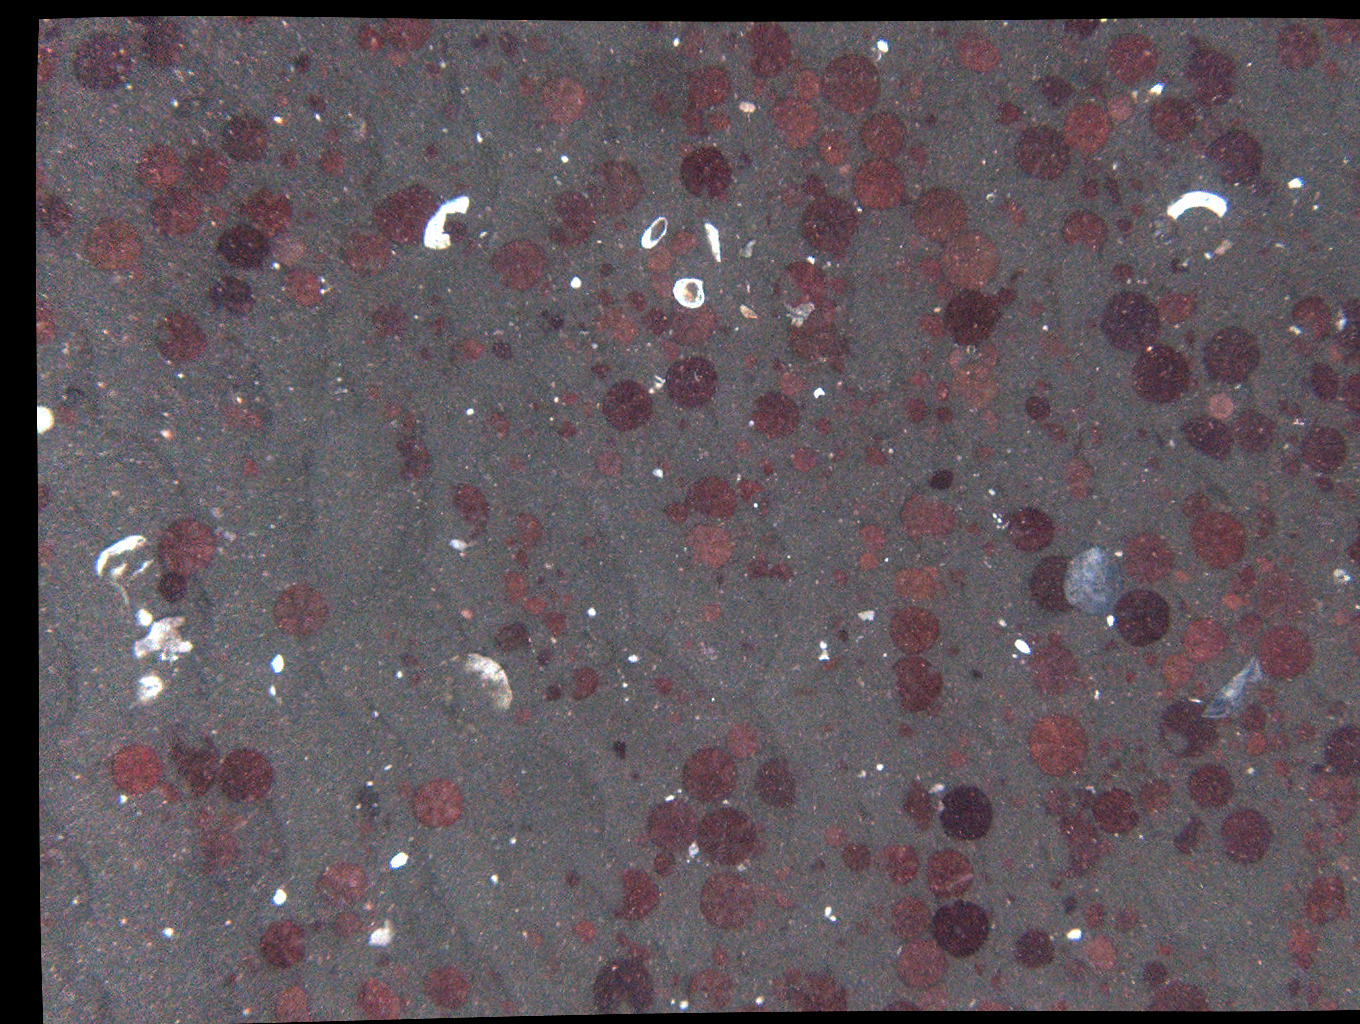Hermit crab: (1149, 210, 1184, 248)
Small shell hash: (77, 141, 95, 152)
Substrate A: (89, 114, 102, 120)
sand dollar: (378, 179, 454, 248), (1127, 343, 1189, 407), (1031, 715, 1090, 780), (1099, 290, 1161, 351), (1202, 322, 1261, 385), (696, 873, 756, 933), (947, 288, 1003, 352), (157, 520, 218, 577), (772, 96, 830, 154), (824, 55, 882, 113), (846, 159, 904, 217), (773, 257, 831, 315), (798, 198, 856, 256), (1266, 30, 1325, 88), (1208, 129, 1266, 187), (1187, 47, 1245, 105), (1144, 89, 1202, 147), (1102, 29, 1160, 87), (1060, 104, 1118, 162), (1013, 128, 1071, 186), (956, 23, 1014, 81), (339, 222, 397, 280), (586, 161, 644, 219), (742, 23, 800, 81), (681, 145, 739, 203), (491, 232, 549, 290), (665, 291, 724, 350), (521, 72, 579, 130), (148, 189, 206, 247), (82, 218, 140, 276), (78, 37, 137, 95), (1159, 697, 1216, 756), (939, 233, 1000, 288), (910, 188, 967, 246), (539, 191, 597, 248), (221, 113, 280, 170), (1029, 557, 1084, 616), (410, 777, 466, 833), (597, 961, 652, 1016), (679, 752, 735, 807), (419, 959, 474, 1015), (223, 745, 278, 800), (436, 483, 492, 538), (154, 321, 209, 376), (388, 433, 443, 489), (1114, 592, 1169, 648), (1125, 526, 1180, 581), (894, 942, 950, 997), (791, 961, 846, 1016), (896, 554, 951, 609), (686, 520, 741, 575), (273, 582, 328, 637), (615, 865, 670, 920), (701, 810, 756, 865), (643, 797, 698, 852), (754, 755, 808, 810), (342, 966, 397, 1021), (317, 855, 372, 910), (194, 822, 248, 877), (169, 738, 224, 793), (112, 741, 167, 796), (944, 360, 999, 415), (663, 357, 718, 412), (602, 380, 657, 435), (754, 388, 808, 443), (1030, 645, 1085, 700), (888, 658, 943, 713), (889, 603, 944, 658), (934, 902, 989, 957), (928, 845, 983, 900), (940, 786, 994, 841), (687, 967, 742, 1022), (1006, 501, 1061, 556), (683, 477, 738, 531), (893, 494, 948, 549), (1051, 817, 1101, 877), (1191, 516, 1246, 569), (182, 147, 237, 200), (1220, 812, 1273, 865), (134, 25, 184, 81), (1315, 715, 1360, 774), (784, 312, 838, 361), (1251, 568, 1304, 617), (1058, 208, 1111, 257), (1223, 409, 1276, 458), (1307, 776, 1360, 825), (1191, 768, 1244, 817), (1087, 792, 1140, 841), (1297, 429, 1350, 478), (1298, 873, 1351, 922), (1261, 629, 1314, 678), (1289, 360, 1342, 409), (1178, 419, 1231, 468), (1180, 617, 1233, 666), (682, 61, 733, 110), (380, 16, 439, 58), (261, 924, 310, 975), (133, 141, 182, 191), (858, 112, 910, 159), (1282, 294, 1335, 338), (244, 186, 291, 236), (267, 984, 324, 1024), (1010, 926, 1056, 975), (204, 271, 250, 319), (1150, 981, 1214, 1015), (1057, 452, 1098, 504), (881, 838, 927, 884), (221, 222, 267, 268), (285, 265, 330, 311), (808, 120, 854, 165), (898, 781, 943, 824), (890, 893, 931, 939), (220, 403, 269, 442), (1166, 815, 1206, 861), (717, 719, 759, 759), (1161, 650, 1201, 692), (266, 228, 307, 267), (1309, 12, 1358, 44), (42, 195, 76, 239), (489, 623, 530, 659), (1084, 935, 1121, 973), (596, 310, 635, 346), (35, 300, 65, 344), (1329, 299, 1360, 340), (373, 305, 409, 340), (1136, 781, 1171, 816), (1160, 289, 1193, 324), (969, 993, 1016, 1016), (570, 665, 601, 699), (888, 720, 919, 751), (600, 737, 631, 768), (35, 46, 61, 84), (1040, 75, 1066, 111), (865, 996, 914, 1015), (492, 335, 521, 365), (679, 33, 708, 63), (650, 87, 679, 117), (668, 136, 697, 166), (658, 342, 687, 372), (674, 230, 703, 260), (639, 311, 668, 341), (650, 272, 679, 302), (644, 245, 673, 275), (587, 361, 616, 392), (562, 389, 591, 419), (431, 315, 460, 345), (622, 285, 652, 315), (542, 311, 571, 341), (583, 288, 612, 318), (497, 450, 526, 480), (547, 413, 576, 443), (38, 546, 67, 577), (487, 407, 516, 437), (49, 399, 78, 429), (375, 394, 404, 424), (201, 204, 230, 234), (514, 26, 543, 56), (501, 74, 530, 104), (469, 26, 498, 56), (439, 213, 468, 243), (354, 27, 383, 57), (307, 98, 337, 128), (270, 88, 299, 118), (290, 51, 319, 81), (225, 456, 254, 486), (270, 143, 299, 173), (1040, 329, 1069, 359), (849, 522, 878, 552), (793, 68, 822, 98), (911, 145, 940, 175), (929, 467, 958, 497), (926, 376, 955, 407), (914, 259, 943, 289), (929, 284, 958, 314), (996, 287, 1025, 317), (1032, 394, 1061, 424), (775, 184, 804, 214), (798, 167, 827, 197), (905, 394, 934, 424), (708, 109, 738, 139), (861, 447, 890, 478), (905, 352, 934, 382), (936, 337, 965, 367), (918, 310, 947, 340), (805, 412, 834, 442), (839, 385, 868, 415), (828, 344, 857, 374), (826, 268, 855, 298), (771, 370, 800, 400), (734, 350, 763, 380), (1044, 415, 1073, 445), (1309, 471, 1338, 501), (1271, 446, 1300, 477), (1280, 395, 1309, 425), (1317, 332, 1346, 362), (1208, 394, 1237, 424), (1309, 52, 1338, 82), (1068, 16, 1097, 46), (1104, 90, 1133, 120), (990, 104, 1019, 134), (1113, 216, 1142, 246), (1101, 175, 1130, 205), (1074, 166, 1103, 196), (998, 198, 1027, 228), (1110, 256, 1139, 286), (1176, 492, 1205, 522), (1119, 663, 1148, 693), (1034, 618, 1063, 649), (948, 563, 977, 593), (395, 651, 424, 681), (822, 641, 851, 671), (645, 672, 674, 702), (534, 677, 563, 707), (526, 641, 555, 671), (539, 606, 568, 636), (492, 568, 521, 598), (505, 539, 534, 569), (513, 514, 542, 544), (724, 436, 753, 466), (750, 447, 779, 478), (736, 473, 765, 503), (770, 557, 799, 587), (743, 553, 772, 583), (692, 593, 721, 623), (659, 497, 688, 527), (589, 452, 618, 482), (1252, 509, 1282, 539), (1250, 544, 1279, 574), (1229, 560, 1258, 591), (1222, 584, 1251, 614), (1169, 570, 1198, 600), (1241, 609, 1270, 639), (1331, 539, 1360, 569), (842, 841, 871, 871), (814, 820, 843, 850), (1054, 891, 1083, 921), (937, 744, 967, 774), (920, 986, 949, 1016), (1305, 975, 1334, 1005), (1289, 955, 1318, 985), (1282, 927, 1311, 957), (1139, 959, 1168, 990), (1329, 826, 1358, 856), (1295, 822, 1325, 852), (1270, 745, 1299, 776), (1295, 719, 1325, 749), (1266, 697, 1295, 727), (1243, 672, 1272, 702), (1240, 701, 1269, 731), (1209, 734, 1239, 764), (1117, 909, 1146, 939), (1083, 900, 1112, 930), (1242, 733, 1271, 763), (1043, 785, 1072, 815), (627, 828, 656, 858), (502, 990, 531, 1020), (769, 963, 798, 993), (775, 883, 804, 913), (708, 942, 738, 972), (620, 926, 649, 956), (650, 848, 679, 878), (524, 928, 553, 958), (575, 921, 604, 951), (559, 871, 588, 901), (502, 698, 531, 728), (332, 909, 361, 939), (386, 959, 415, 990), (364, 939, 393, 969), (391, 770, 420, 800), (153, 778, 182, 808), (197, 806, 226, 836), (232, 806, 261, 836), (32, 160, 51, 208), (793, 442, 819, 475), (450, 333, 479, 362), (675, 106, 704, 136), (609, 219, 638, 248), (161, 575, 190, 605), (396, 406, 425, 435), (493, 35, 522, 65), (390, 49, 419, 79), (911, 79, 940, 108), (850, 547, 879, 577), (747, 77, 776, 106), (516, 591, 545, 620), (491, 774, 520, 803), (595, 254, 622, 284), (423, 138, 450, 168), (323, 153, 350, 183), (967, 428, 994, 458), (1325, 601, 1352, 631), (1096, 741, 1123, 771), (813, 560, 839, 593), (1165, 257, 1196, 284), (765, 862, 792, 890), (1342, 372, 1360, 412), (930, 398, 956, 425), (38, 473, 53, 516)
